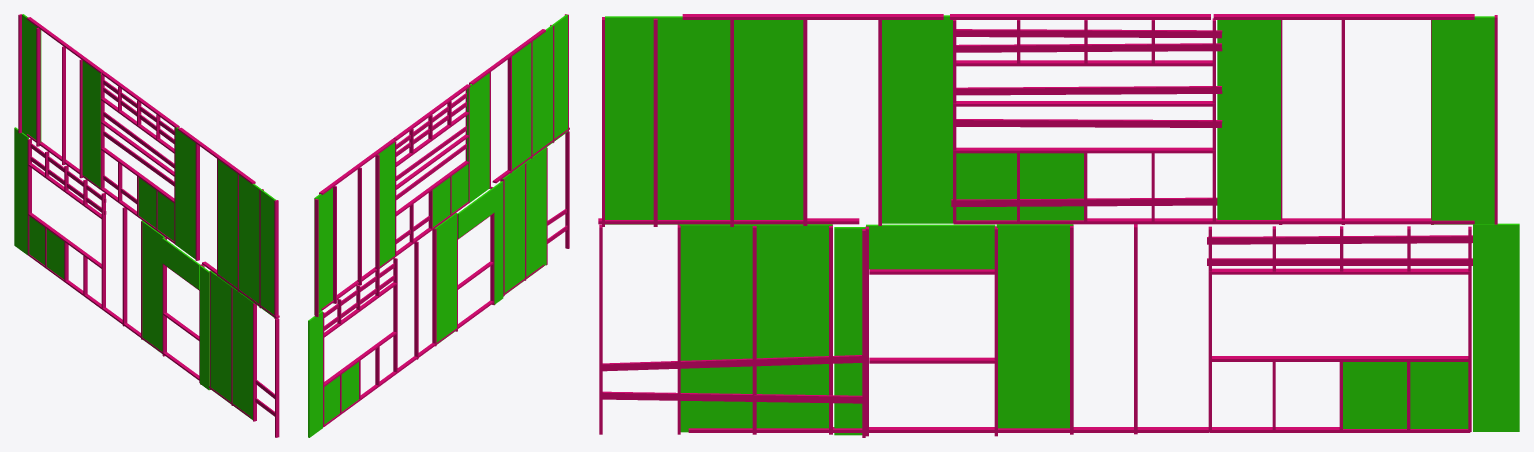
The model's file is BH03B_Wall_08_Break_B.fbx.
The picture shows the model from 3 angles, left to right: view 1: azimuth 30°, elevation 25°; view 2: azimuth 150°, elevation 25°; view 3: azimuth 270°, elevation 25°; orthographic projection. The views are drawn at different scales.
Visible parts, largest first — view 1: BH03B_Wall_08_Break_B; view 2: BH03B_Wall_08_Break_B; view 3: BH03B_Wall_08_Break_B.
Boxes of the visible parts, x1=… form: BH03B_Wall_08_Break_B: x1=14, y1=14, x2=279, y2=437; BH03B_Wall_08_Break_B: x1=308, y1=14, x2=569, y2=437; BH03B_Wall_08_Break_B: x1=598, y1=14, x2=1519, y2=437.
Size of the model in its own units: 18.2 by 610 by 1210.
